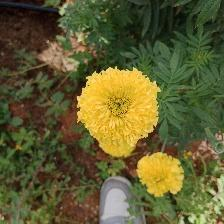marigold: (78, 67, 164, 161)
